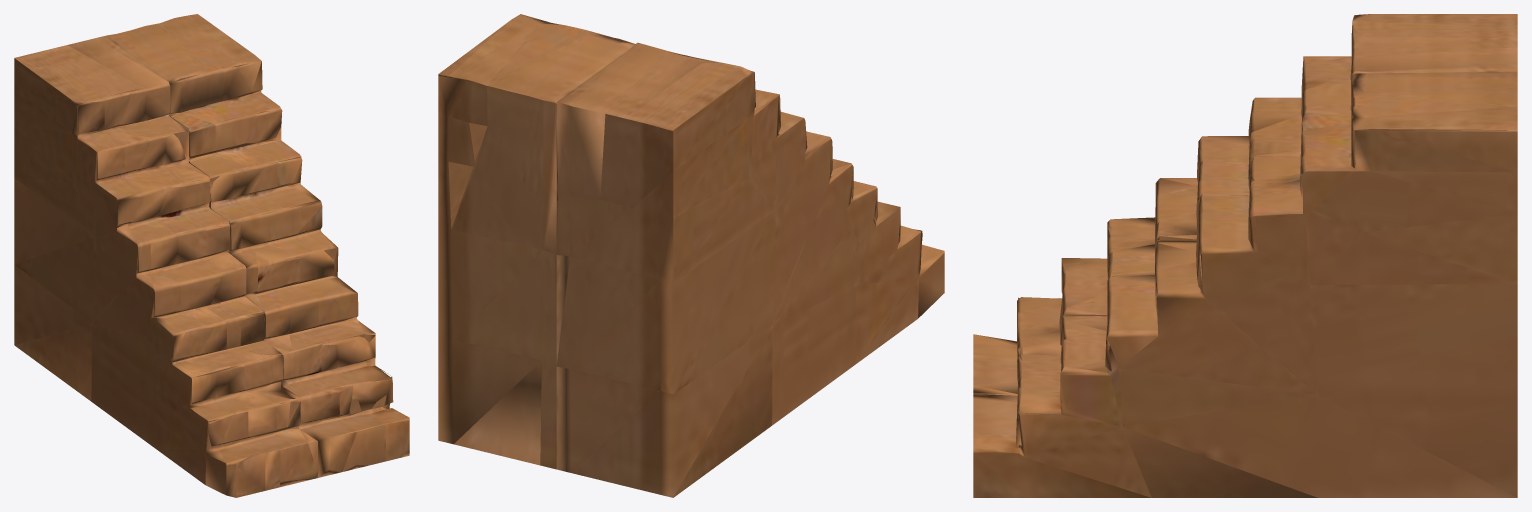
The model's file is stairs-wood.lod1.glb.
3 views of the same model, side by side, from view 1: azimuth 30°, elevation 25°; view 2: azimuth 150°, elevation 25°; view 3: azimuth 270°, elevation 25° (orthographic). The views are drawn at different scales.
Bounding box in the file's own units: 2 × 3 × 4.
1 material, 1 textured.
